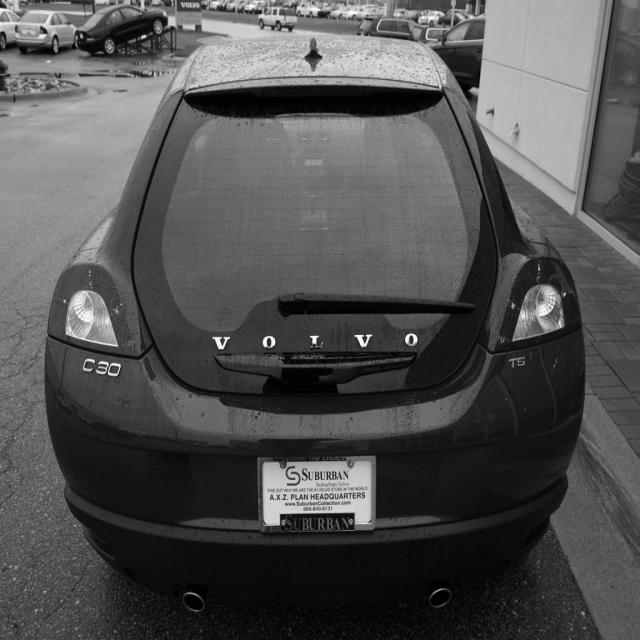car: (44, 33, 586, 612), (74, 4, 168, 55), (14, 10, 77, 53), (0, 8, 21, 49)
plat_license: (256, 446, 374, 544)
